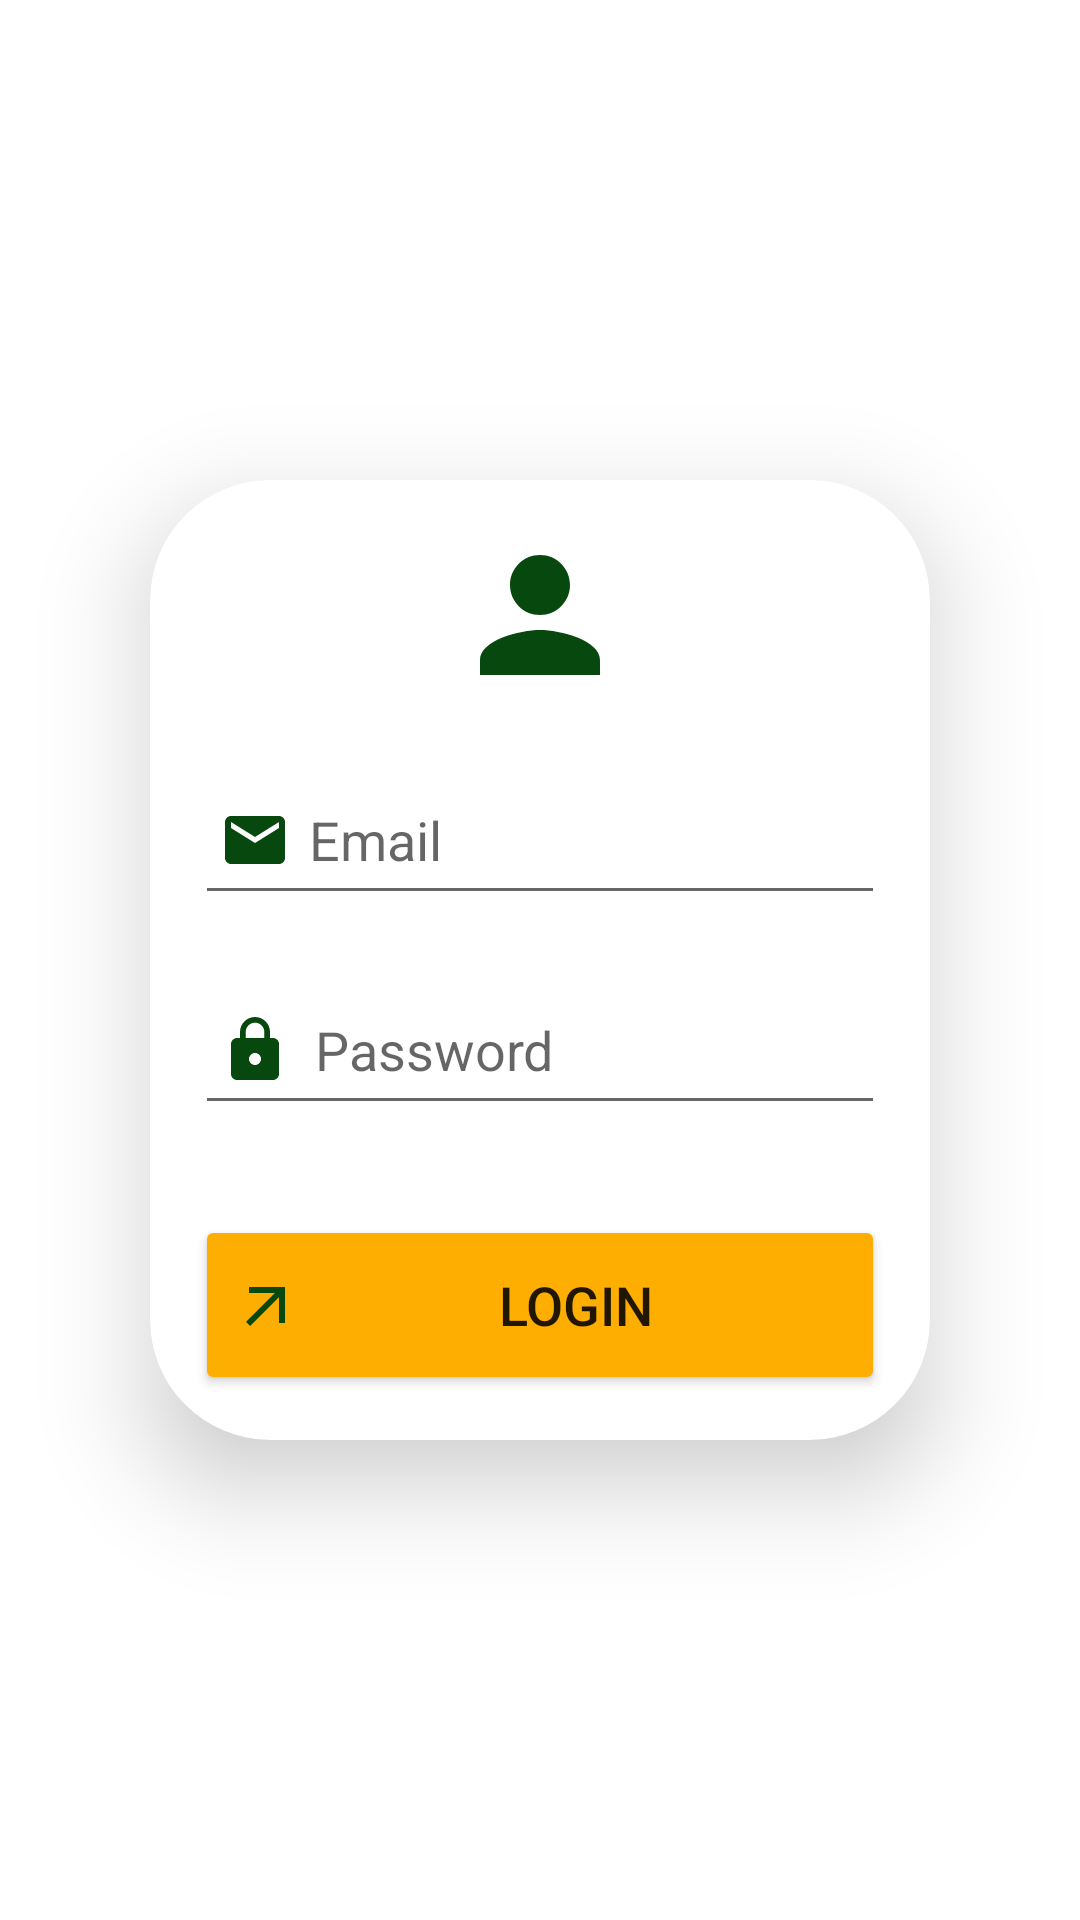

Icons on this 1080 × 1920 Android screen, each with the point to tap as (x,y):
person: (540,615)
